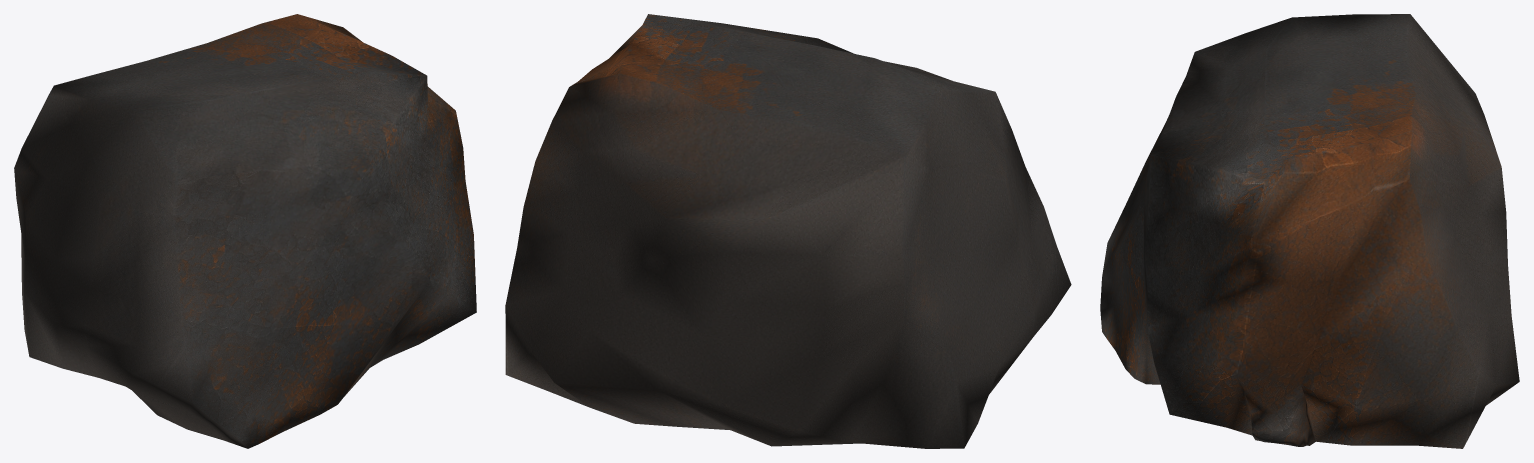
Rendered from Meshy_AI_Rustbound_Monolith_0831110540_texture.fbx.
The picture shows the model from 3 angles, left to right: view 1: azimuth 30°, elevation 25°; view 2: azimuth 150°, elevation 25°; view 3: azimuth 270°, elevation 25°; orthographic projection. The views are drawn at different scales.
Parts seen in each view (by area): view 1: mesh_node; view 2: mesh_node; view 3: mesh_node.
Part boxes in pixels (<box>): mesh_node: <box>14,14,476,448</box>; mesh_node: <box>505,14,1071,448</box>; mesh_node: <box>1100,14,1519,448</box>.
Bounding box in the file's own units: 100 × 73.44 × 91.02.
Materials: 1 (1 with a texture image).
